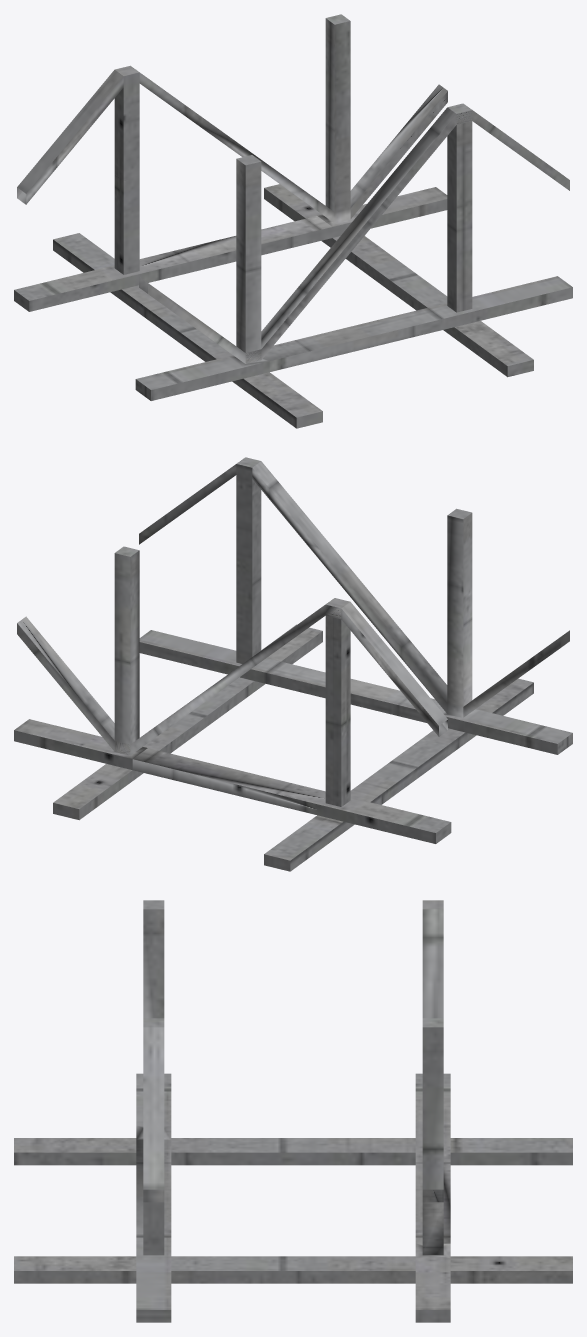
File: Scaffolding2.fbx
3 views of the same model, one above another, from view 1: azimuth 30°, elevation 25°; view 2: azimuth 150°, elevation 25°; view 3: azimuth 270°, elevation 25° (orthographic). The views are drawn at different scales.
Parts seen in each view (by area): view 1: Cube.002; view 2: Cube.002; view 3: Cube.002.
Part boxes in pixels (<box>): Cube.002: <box>14,14,572,428</box>; Cube.002: <box>14,457,572,871</box>; Cube.002: <box>14,900,572,1322</box>.
Size of the model in its own units: 200 by 100 by 200.
